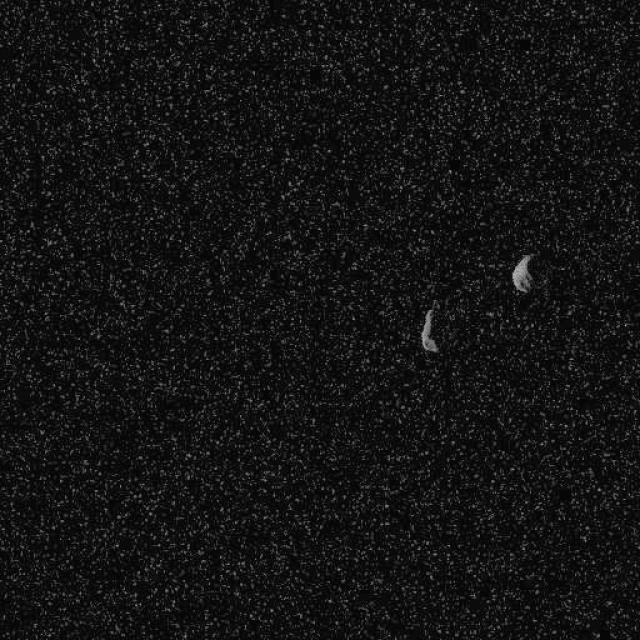D2: (510, 252, 535, 294), (420, 305, 440, 354)
